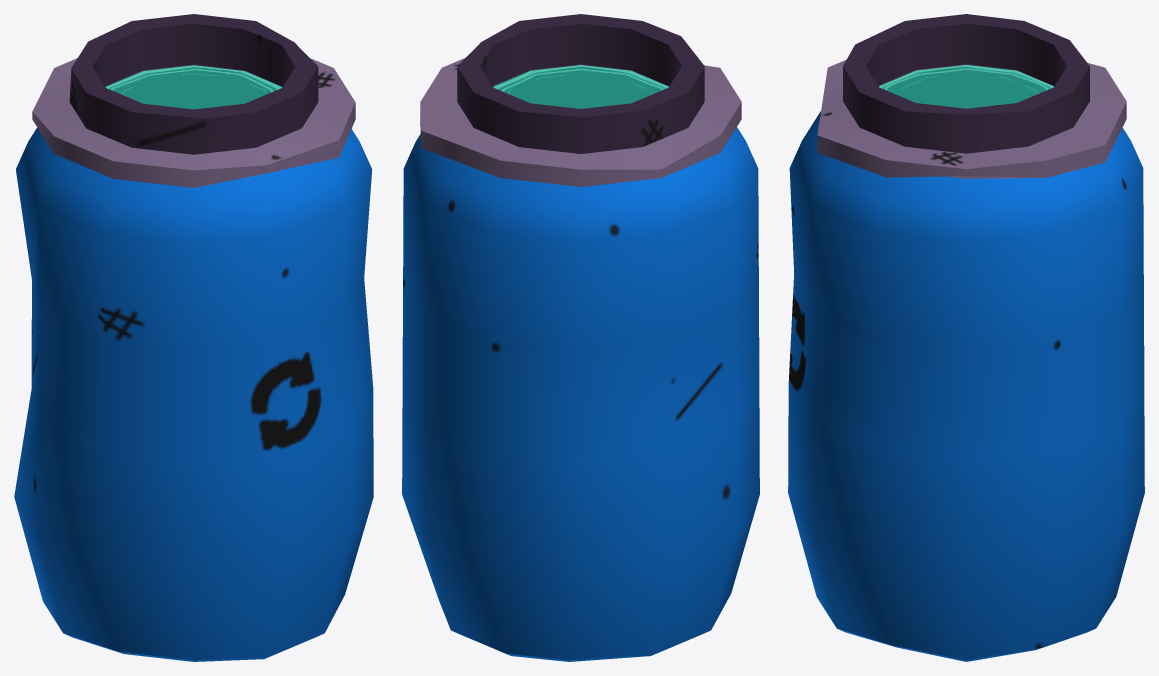
File: Barrel_.fbx
3 renders of one model, left to right at view 1: azimuth 30°, elevation 25°; view 2: azimuth 150°, elevation 25°; view 3: azimuth 270°, elevation 25°, orthographic.
Parts seen in each view (by area): view 1: barrel; view 2: barrel; view 3: barrel.
Part boxes in pixels (x1,y1,x2,y2): barrel: (14, 14, 373, 661); barrel: (402, 14, 759, 661); barrel: (788, 14, 1144, 661).
Size of the model in its own units: 0.8198 by 1.36 by 0.8198.
